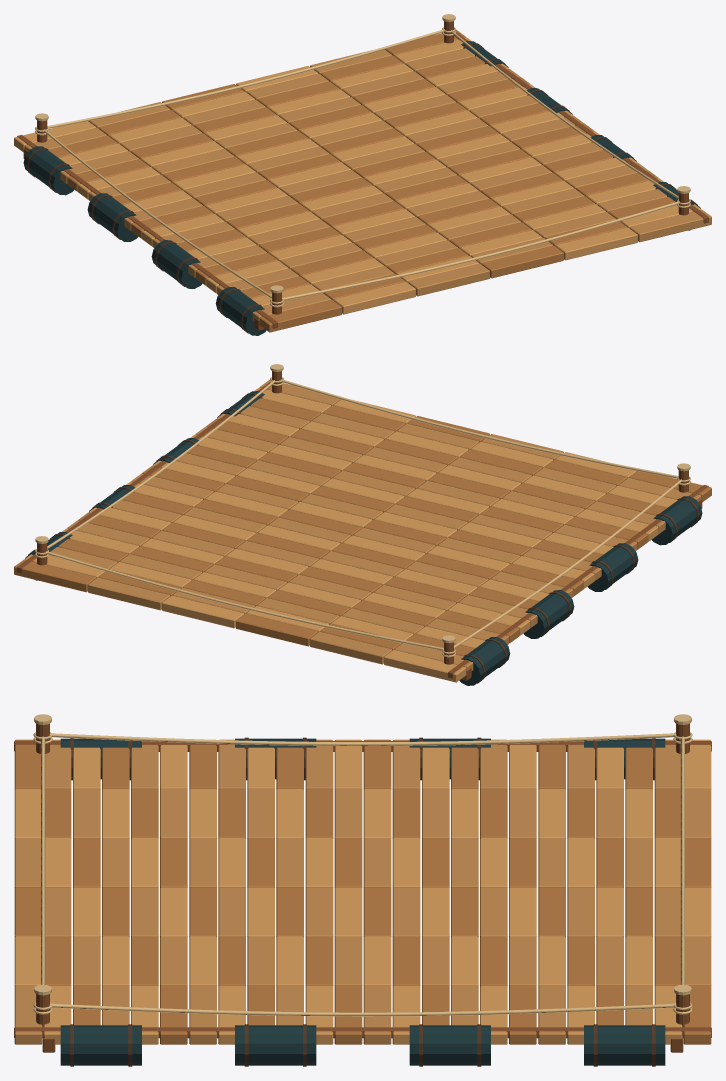
Rendered from starting-raft.glb.
3 views of the same model, one above another, from view 1: azimuth 30°, elevation 25°; view 2: azimuth 150°, elevation 25°; view 3: azimuth 270°, elevation 25° (orthographic). The views are drawn at different scales.
Parts seen in each view (by area): view 1: starting-raft; view 2: starting-raft; view 3: starting-raft.
Boxes of the visible parts, x1,y1,x2,y2 form: starting-raft: (14,14,711,335); starting-raft: (14,364,711,685); starting-raft: (14,714,711,1066).
Bounding box in the file's own units: 24.77 × 2.6 × 24.
1 material, 1 textured.
